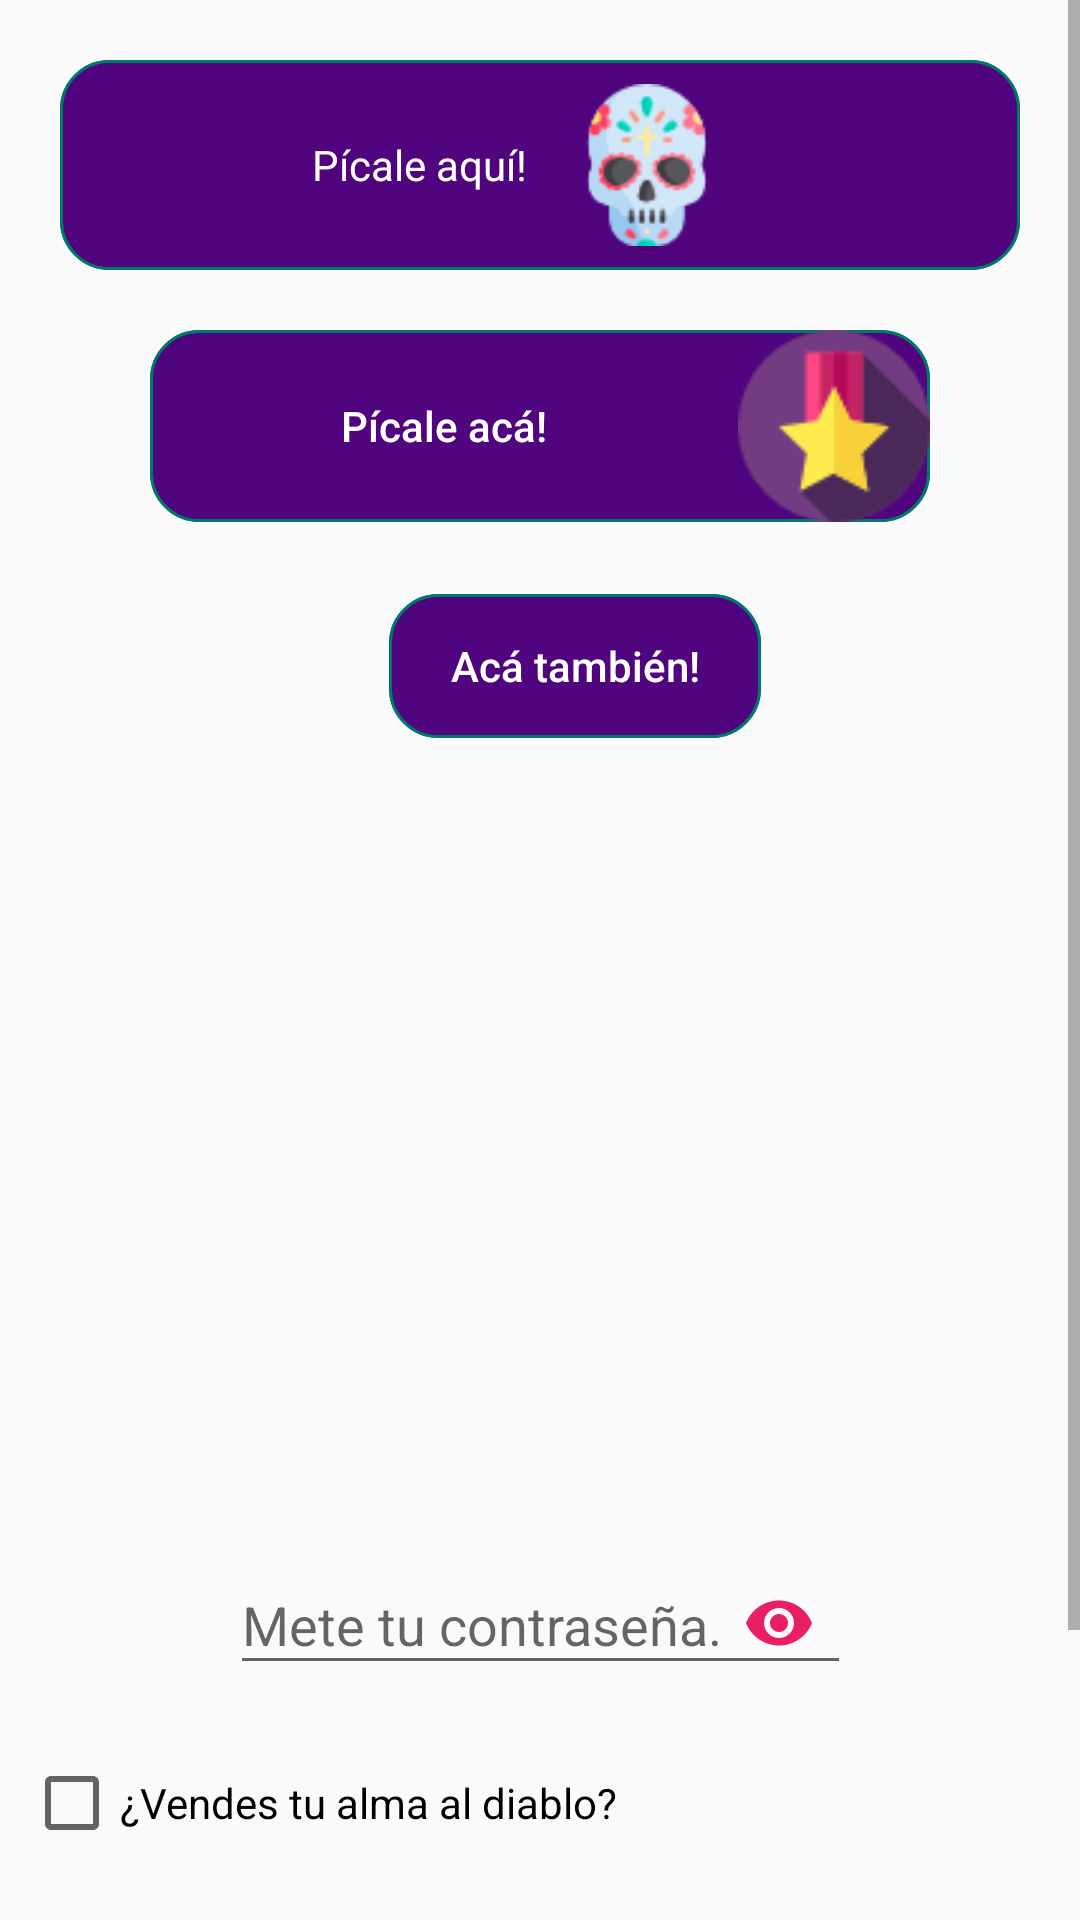

Point at icon controls on the screen. Image size 1080px x 1920px, points as (x=x, y=y).
skull: (x=647, y=165)
